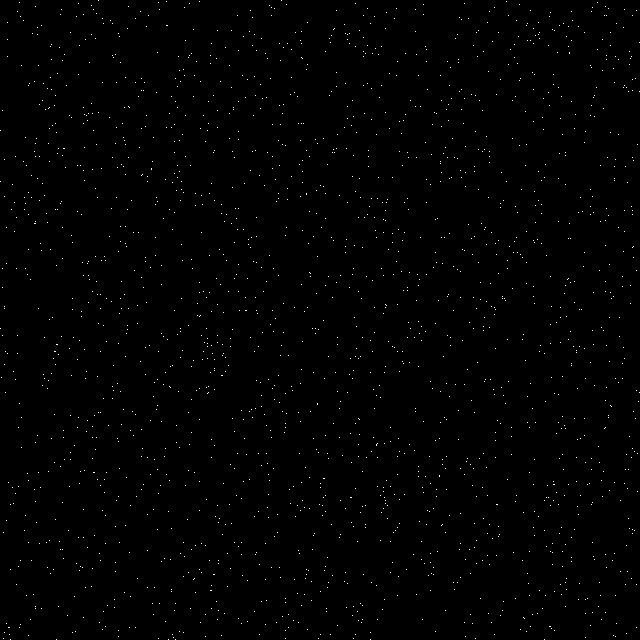Rahar_ko_Daal: (0, 0, 640, 640), (211, 200, 311, 379), (83, 311, 173, 501), (39, 420, 135, 592), (389, 300, 478, 482), (213, 465, 300, 613)
